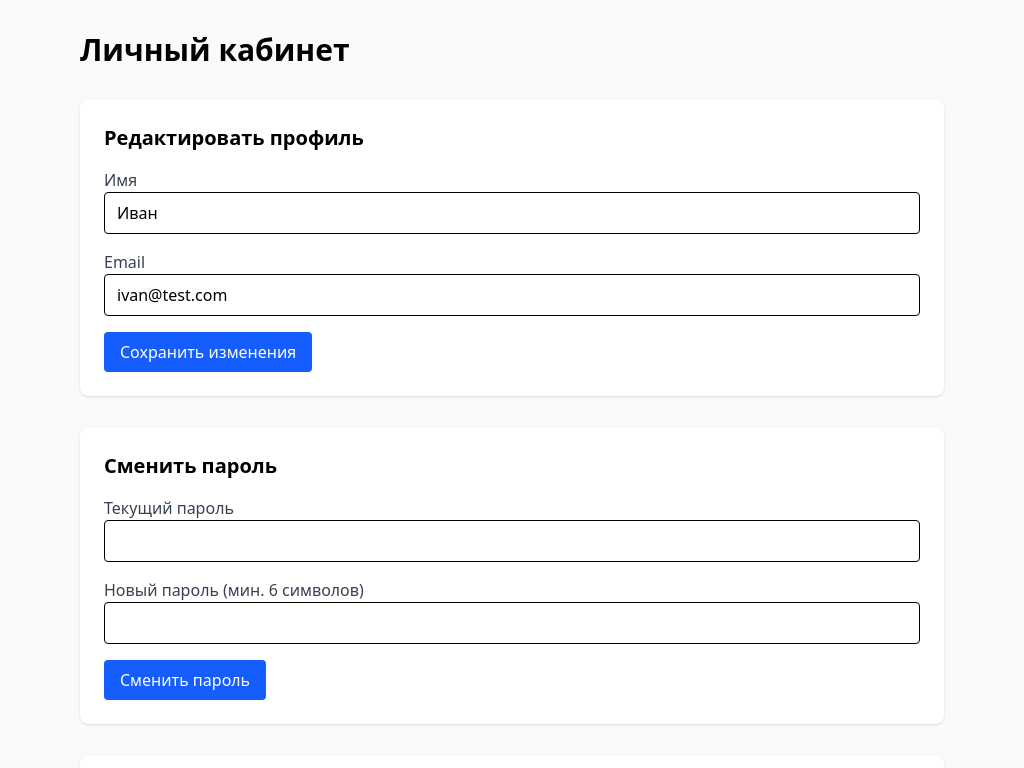
Test: ProfilePage › shows error if new password is too short
This screenshot has width=1024, height=768.
Step 1. Type "anypass" into the password field labelled "Текущий пароль" → [512, 541], box top-left (104, 520), bottom-right (920, 562)
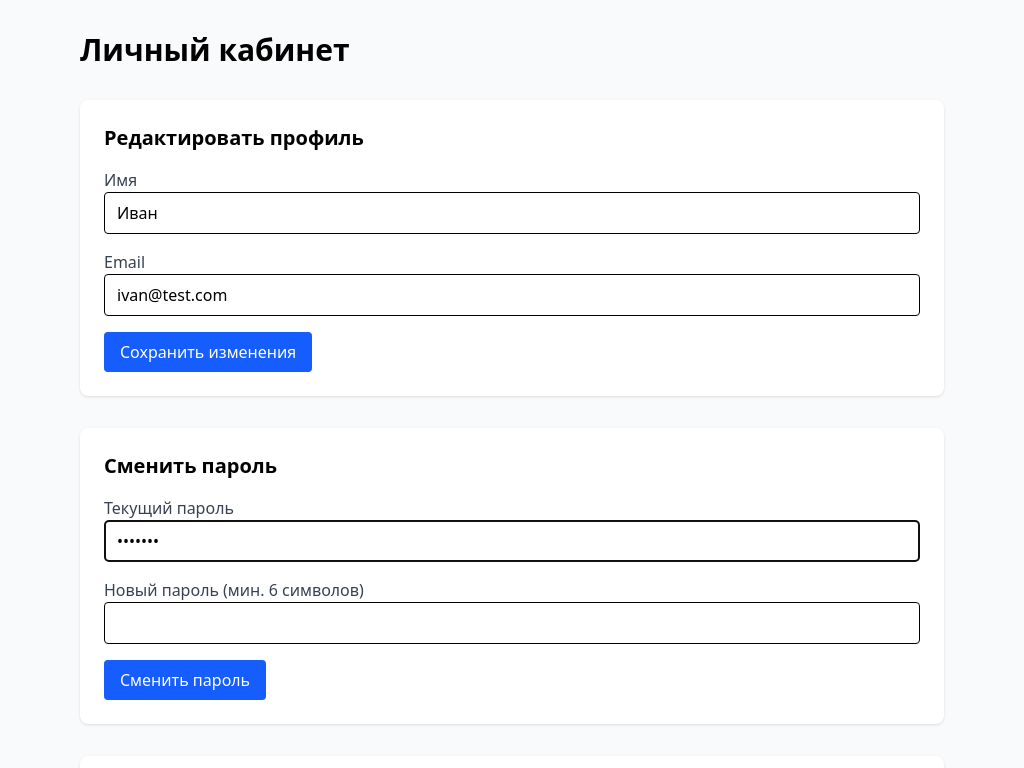
Step 2. Type "12345" into the password field labelled "Новый пароль (мин. 6 символов)" → [512, 623], box top-left (104, 602), bottom-right (920, 644)
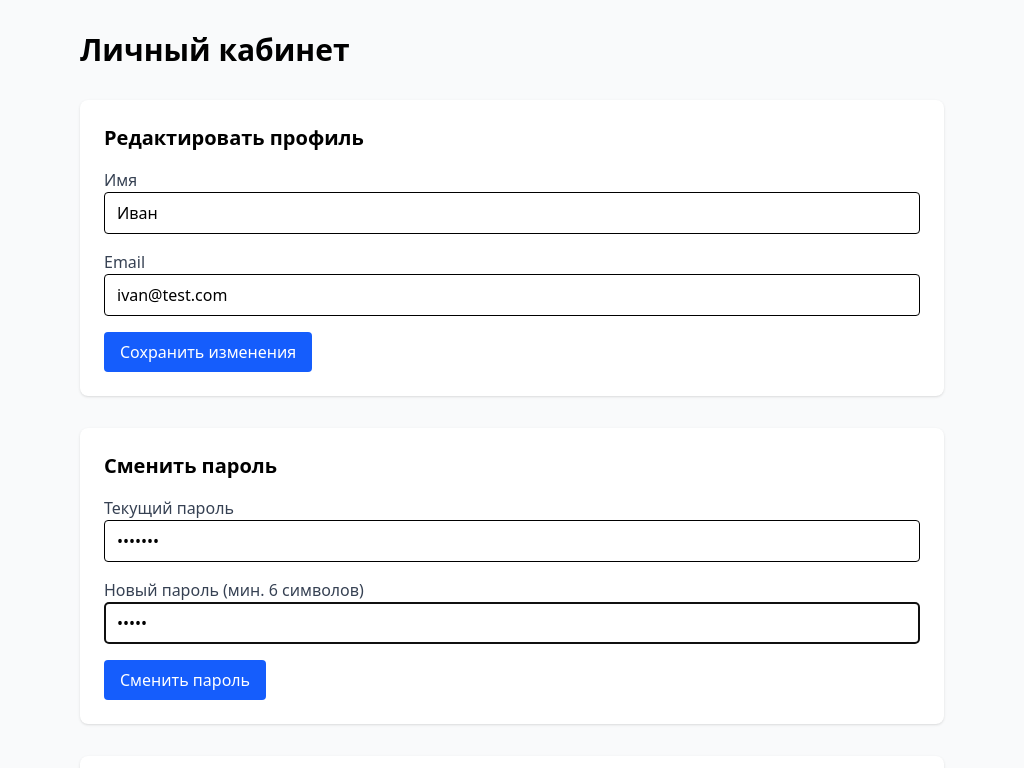
Step 3. Click the button "Сменить пароль" → [185, 680], box top-left (104, 660), bottom-right (266, 700)
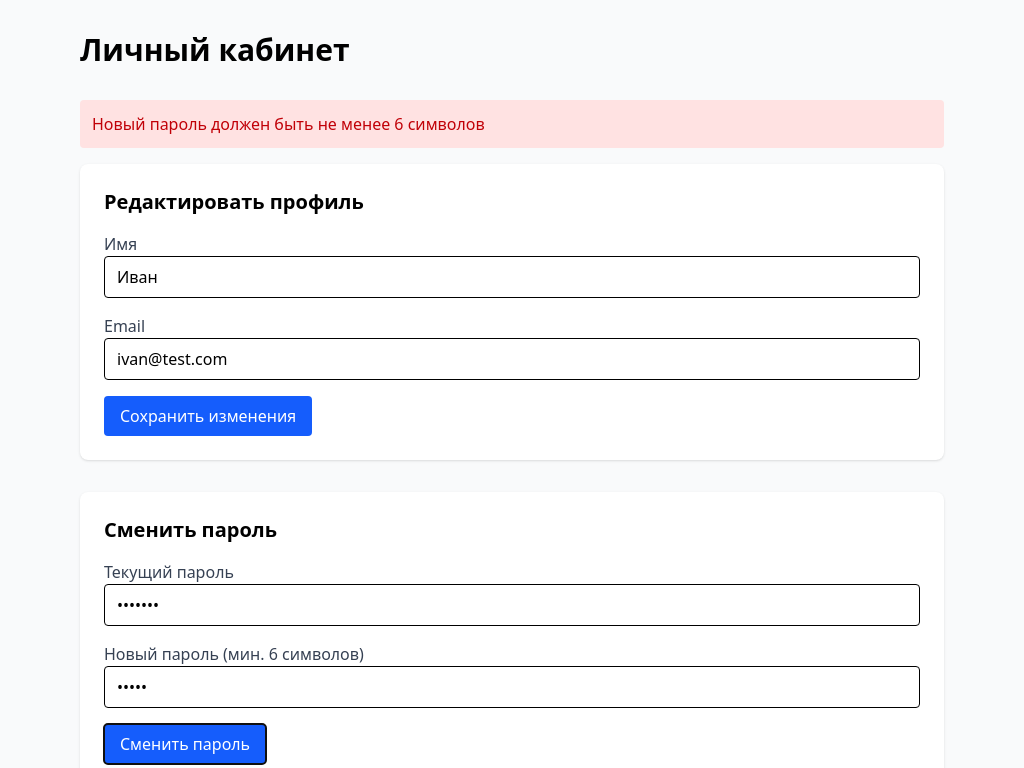
Expected: the text "Новый пароль должен быть не менее 6 символов" is shown, top-left (80, 100), bottom-right (944, 148)
